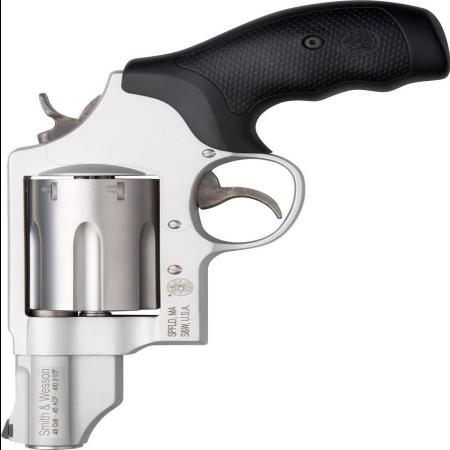Pistol: (0, 7, 446, 450)
